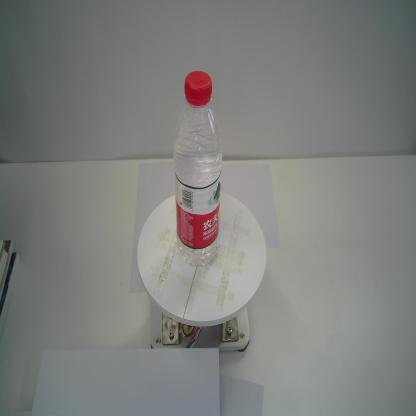Drink: (173, 70, 225, 266)
